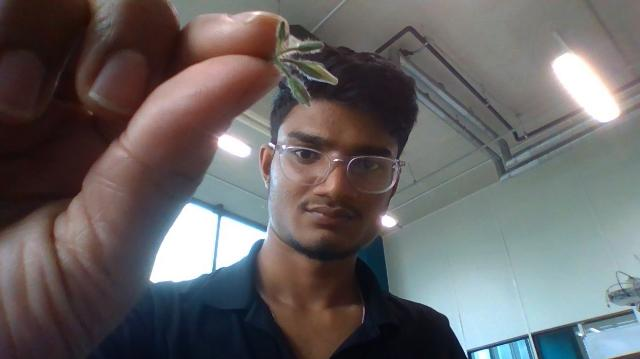Flower Bud: (293, 59, 342, 88), (286, 72, 314, 110), (270, 16, 291, 43), (294, 37, 328, 52)
